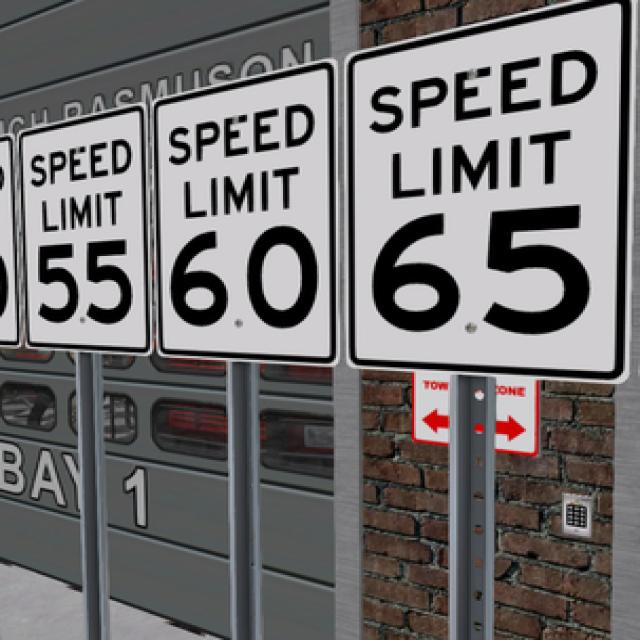speedLimit55: (25, 96, 146, 355)
speedLimit60: (159, 56, 335, 384)
speedLimit65: (341, 11, 626, 384)
